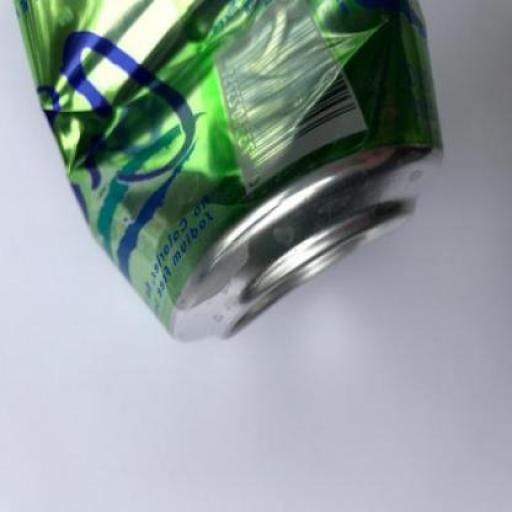metal: (13, 1, 442, 341)
